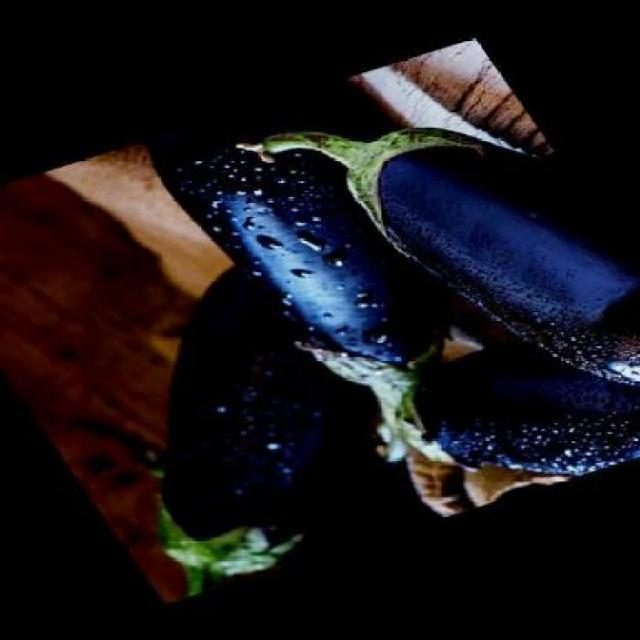eggplant: (134, 84, 558, 484), (231, 62, 638, 460), (2, 255, 440, 597), (363, 293, 640, 515)
